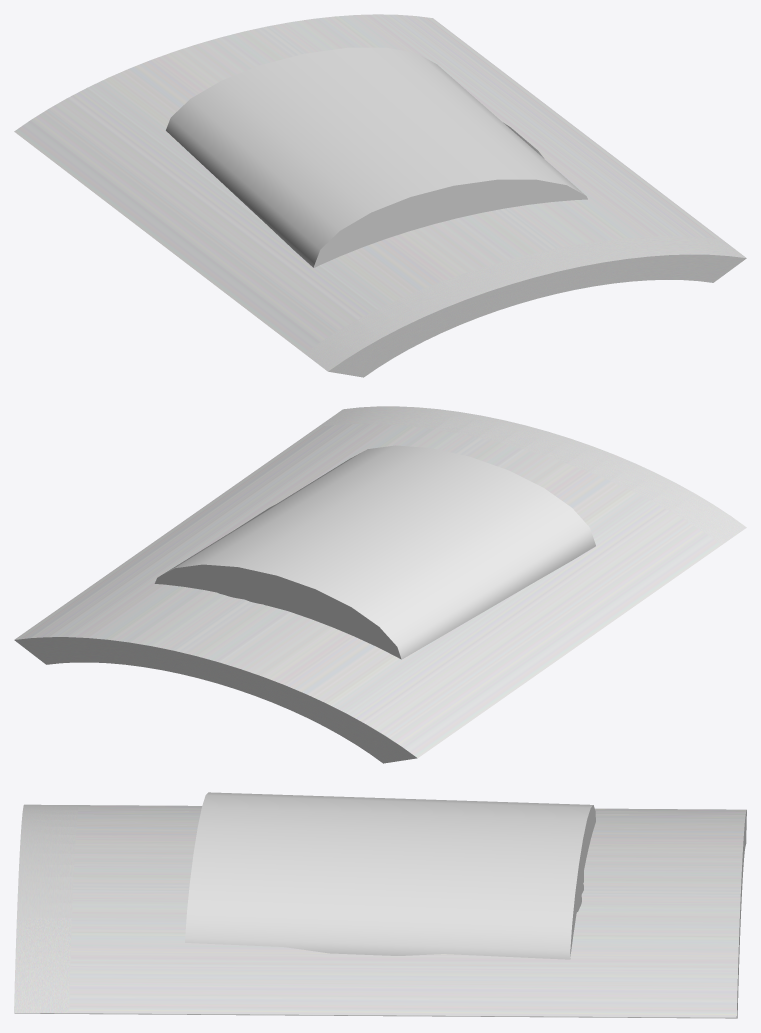
Rendered from cell.fbx.
The picture shows the model from 3 angles, top to bottom: view 1: azimuth 30°, elevation 25°; view 2: azimuth 150°, elevation 25°; view 3: azimuth 270°, elevation 25°; orthographic projection. The views are drawn at different scales.
Visible parts, largest first — view 1: polySurface2, pCylinder2; view 2: polySurface2, pCylinder2; view 3: polySurface2, pCylinder2.
Boxes of the visible parts, x1,y1,x2,y2 form: polySurface2: (14,14,746,377); pCylinder2: (166,47,587,267); polySurface2: (14,406,746,763); pCylinder2: (154,445,595,659); polySurface2: (14,804,746,1018); pCylinder2: (185,792,595,959).
Size of the model in its own units: 5.13 by 1.24 by 6.87.
